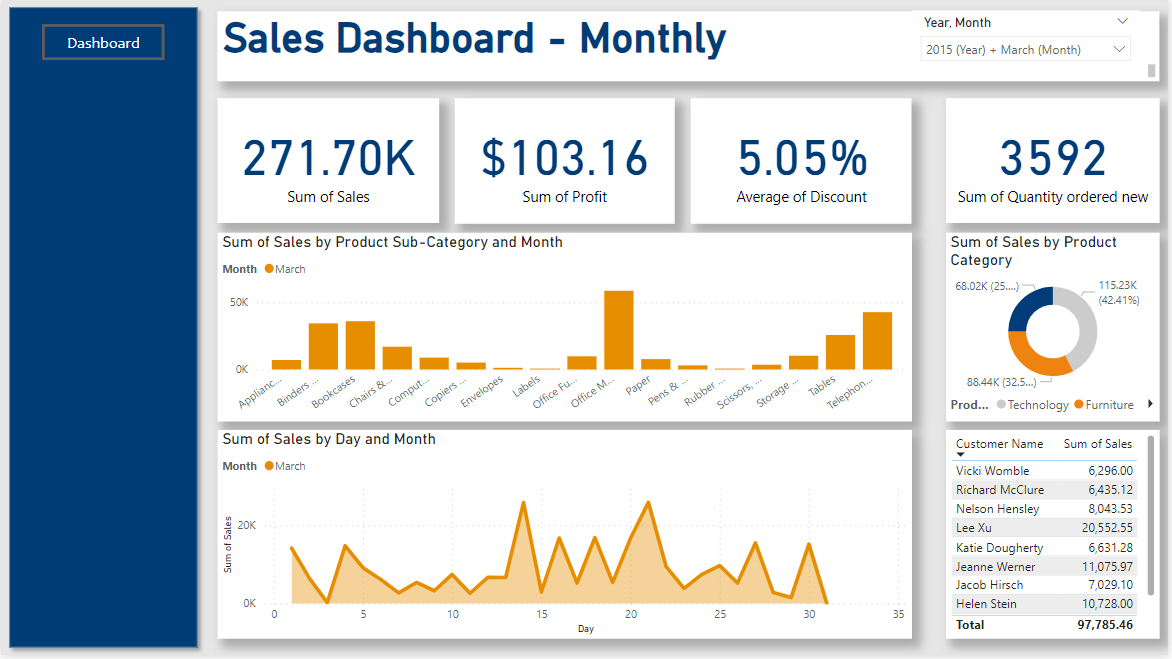

This screenshot's page, from the dashboard's own definition file:
{"tool":"powerbi","page":{"name":"Page 1","canvas":[1280,720],"ordinal":0},"visuals":[{"type":"shape","box":[0,0,224.3,720],"z":0},{"type":"actionButton","box":[45.1,27.3,134.3,39.9],"z":1000},{"type":"textbox","title":"Sales Dashboard - Monthly","box":[237.5,13.8,1032.5,76.2],"z":3000},{"type":"slicer","fields":{"Values":["Orders.Order Date.Variation.Date Hierarchy.Year","Orders.Order Date.Variation.Date Hierarchy.Month"]},"box":[998.6,12.9,250,75.7],"z":4000},{"type":"card","fields":{"Values":["Orders.Sales"]},"box":[237.1,108.6,242.9,137.1],"z":5000,"group":"g1"},{"type":"card","fields":{"Values":["Orders.Profit"]},"box":[497.5,108.8,241.2,137.5],"z":6000,"group":"g1"},{"type":"card","fields":{"Values":["Orders.Discount"]},"box":[756.2,108.8,242.5,137.5],"z":7000,"group":"g1"},{"type":"card","fields":{"Values":["Orders.Quantity ordered new"]},"box":[1035.7,108.6,234.3,137.1],"z":8000,"group":"g1"},{"type":"clusteredColumnChart","fields":{"Category":["Orders.Product Sub-Category"],"Y":["Orders.Sales"],"Series":["Orders.Order Date.Variation.Date Hierarchy.Month"]},"box":[237.1,255.7,761.4,207.1],"z":9000,"group":"g1"},{"type":"areaChart","fields":{"Y":["Orders.Sales"],"Category":["Orders.Order Date.Variation.Date Hierarchy.Day"],"Series":["Orders.Order Date.Variation.Date Hierarchy.Month"]},"box":[237.1,472.9,761.4,228.6],"z":10000,"group":"g1"},{"type":"donutChart","fields":{"Category":["Orders.Product Category"],"Y":["Orders.Sales"]},"box":[1035.7,255.7,234.3,207.1],"z":11000,"group":"g1"},{"type":"tableEx","fields":{"Values":["Orders.Customer Name","Orders.Sales"]},"box":[1035.7,472.9,234.3,228.6],"z":12000,"group":"g1"},{"type":"group","id":"g1","title":"Group 1","box":[237.1,108.6,1032.9,592.9],"z":12001}]}

Visuals, with their boxes in screenshot pixels (x1, y1, x2, y2), scaled from the page's 1280x720 canvas onto the 1172x659 screenshot:
shape: left=0, top=0, right=205, bottom=658
actionButton: left=41, top=25, right=164, bottom=62
"Sales Dashboard - Monthly" textbox: left=217, top=13, right=1163, bottom=82
slicer - Orders.Order Date.Variation.Date Hierarchy.Year x Orders.Order Date.Variation.Date Hierarchy.Month: left=914, top=12, right=1143, bottom=81
card - Orders.Sales: left=217, top=99, right=440, bottom=225
card - Orders.Profit: left=456, top=100, right=676, bottom=225
card - Orders.Discount: left=692, top=100, right=914, bottom=225
card - Orders.Quantity ordered new: left=948, top=99, right=1163, bottom=225
clusteredColumnChart - Orders.Product Sub-Category x Orders.Sales: left=217, top=234, right=914, bottom=424
areaChart - Orders.Sales x Orders.Order Date.Variation.Date Hierarchy.Day: left=217, top=433, right=914, bottom=642
donutChart - Orders.Product Category x Orders.Sales: left=948, top=234, right=1163, bottom=424
tableEx - Orders.Customer Name x Orders.Sales: left=948, top=433, right=1163, bottom=642
"Group 1" group: left=217, top=99, right=1163, bottom=642
